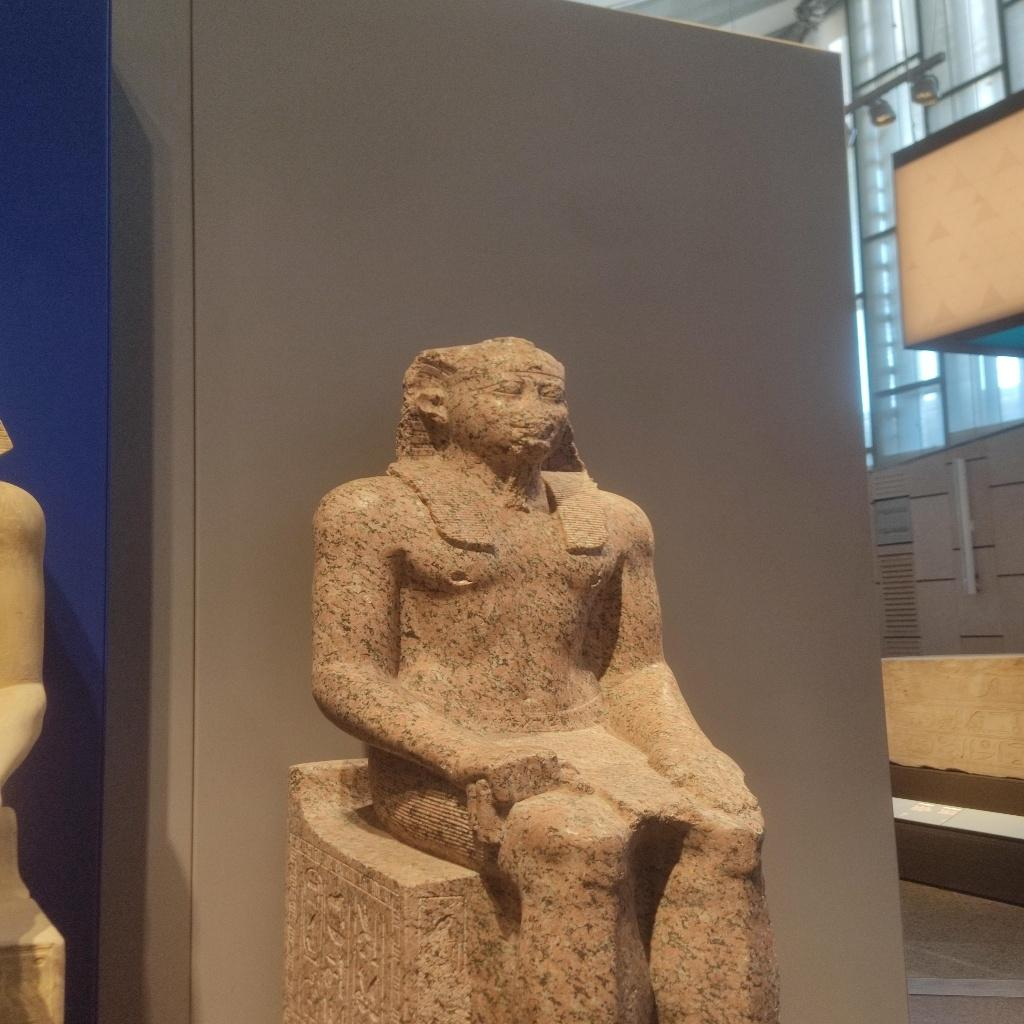Statue of Amenmhat I: (301, 334, 783, 1024)
